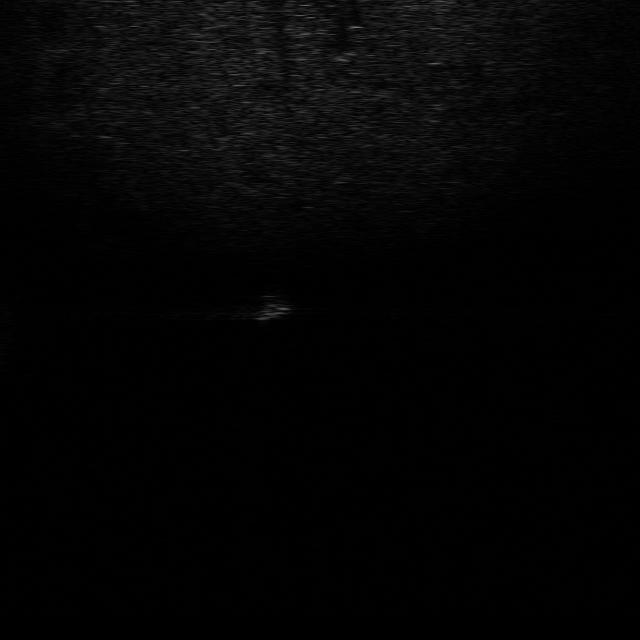human body: (241, 290, 294, 321)
